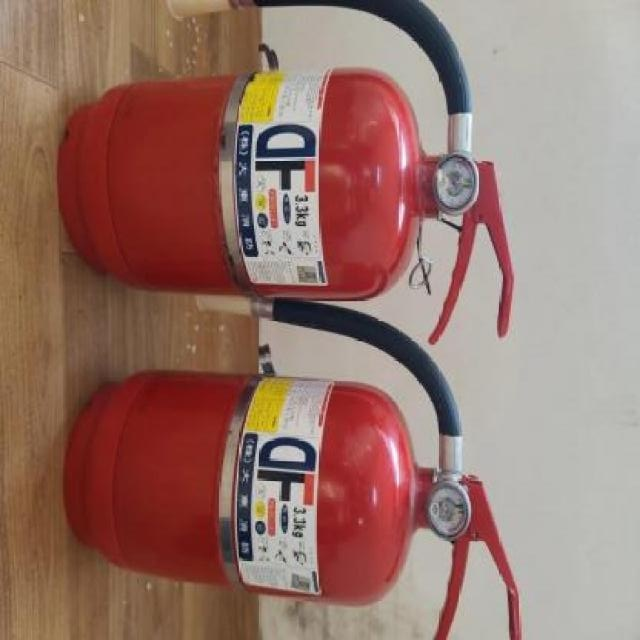fire extinguisher: (61, 295, 524, 640), (56, 0, 515, 345)
